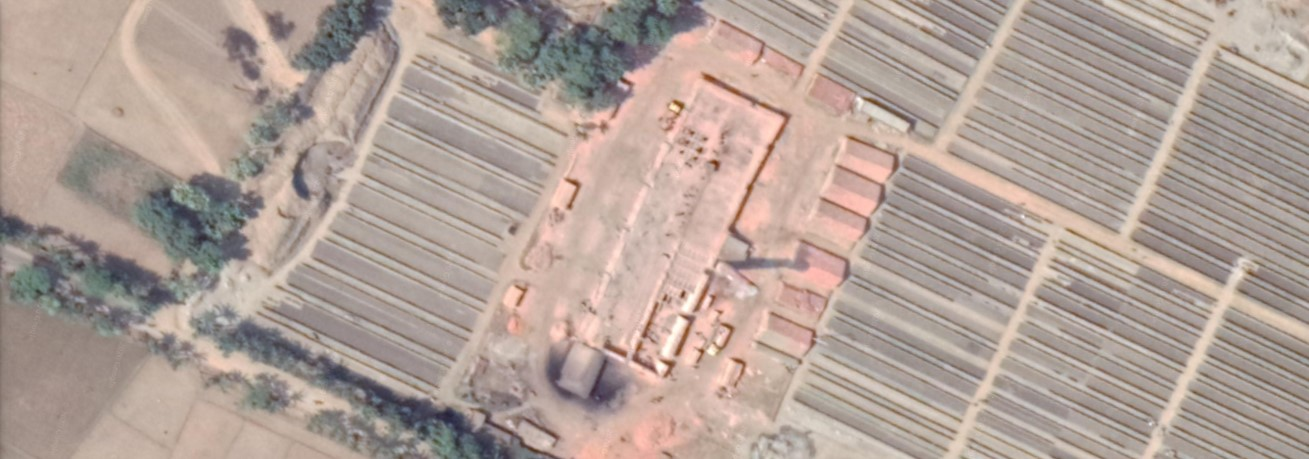kiln: (583, 134, 824, 346)
